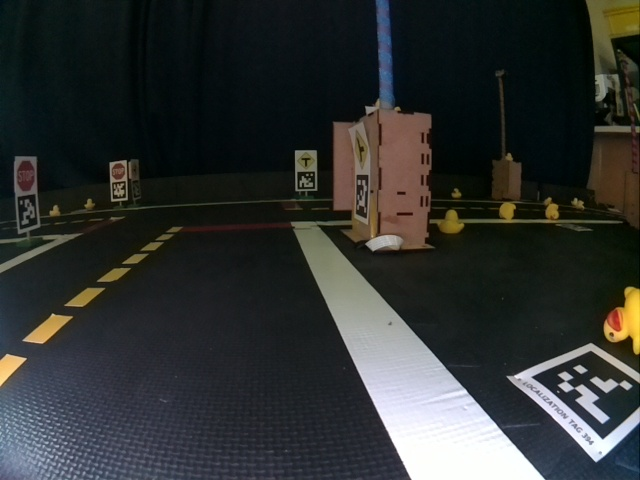Duckie: (604, 287, 638, 354), (438, 210, 463, 234), (545, 203, 561, 219), (500, 203, 514, 219), (451, 188, 461, 198), (504, 151, 514, 161), (85, 198, 94, 208), (50, 205, 58, 215), (575, 199, 579, 207)
Intersection sign: (353, 131, 369, 169), (298, 152, 316, 168), (130, 161, 139, 178)
QR code: (508, 344, 638, 460), (17, 195, 39, 230), (356, 175, 369, 219), (296, 171, 316, 189), (112, 181, 126, 199), (131, 182, 140, 199)
Stop sign: (17, 159, 35, 191), (111, 165, 125, 180)
